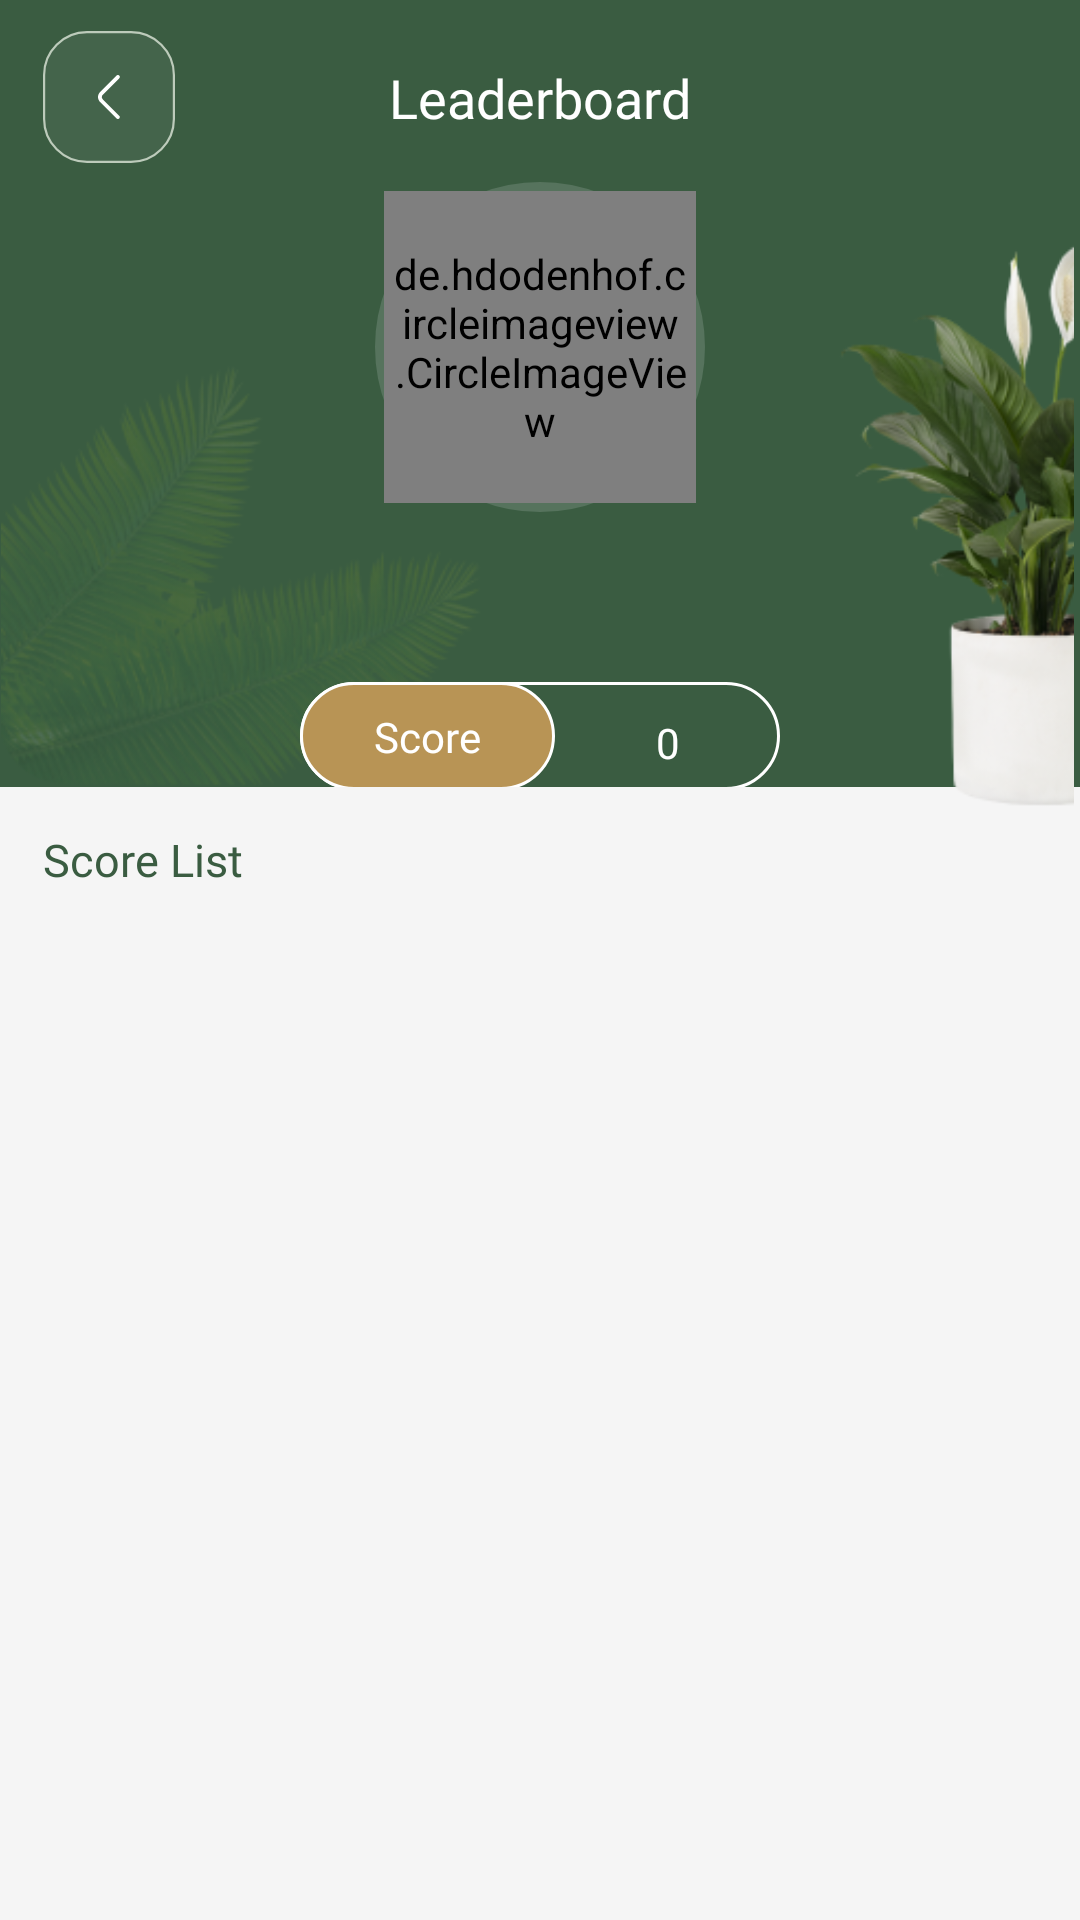

Icons on this 1080px×1920px Android screen, each with its box as (x1=x1, y1=y1, x2=x2, y2=y2):
back: (x1=43, y1=31, x2=175, y2=163)
